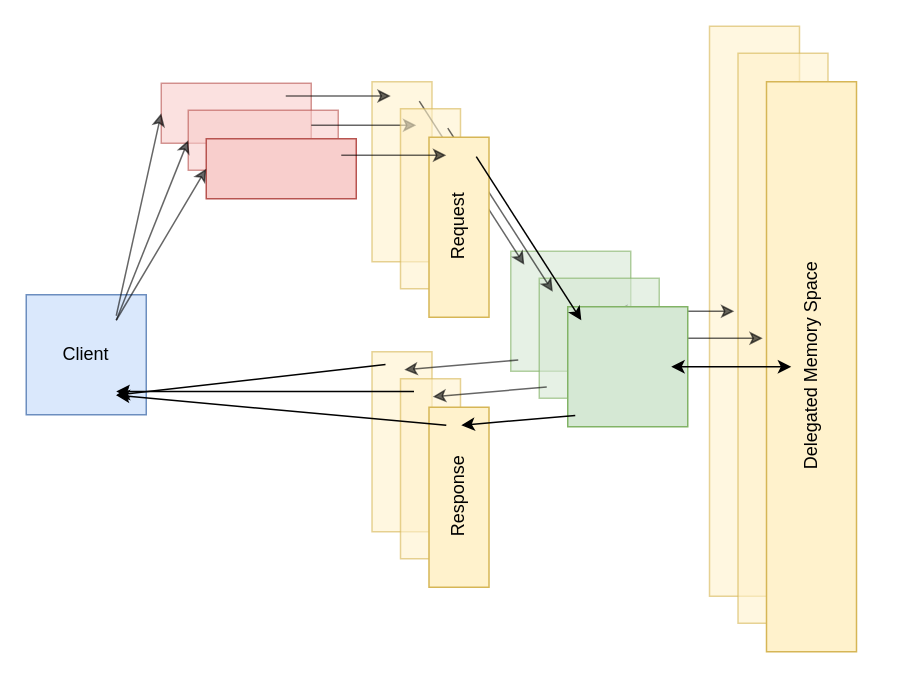
The diagram is 897 pixels wide and 693 high, and some of its shapes have lost their labels. Here are the shapes that lost their labels. From the top down, the centre of each, then its label:
At pixel 280 168: "Request Queue".
At pixel 627 366: "Server".
